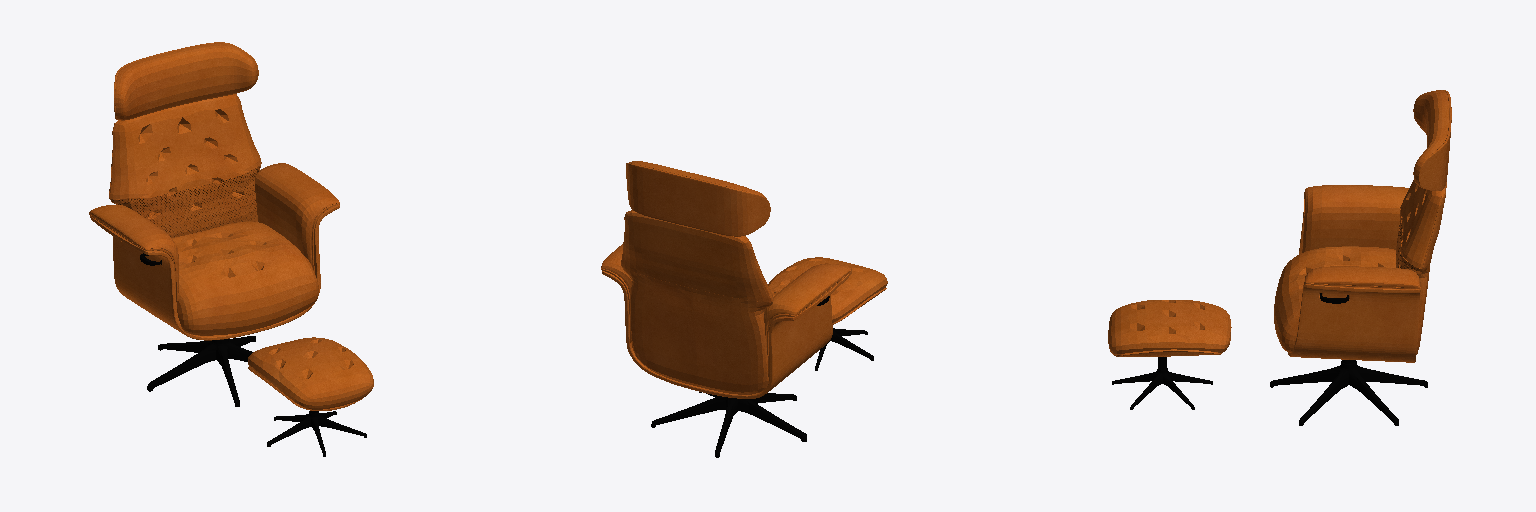
3 views of the same model, side by side, from view 1: azimuth 30°, elevation 25°; view 2: azimuth 150°, elevation 25°; view 3: azimuth 270°, elevation 25° (orthographic).
Visible parts, largest first — view 1: Back_Cube.003, Seat_Cube.002, Cube_Cube.004, Arms_Cube, Cube.002_Cube.006, Arms_lower_part_Cube.001, Cylinder.004_Cylinder.008, Cylinder.001_Cylinder.002; view 2: Back_Cube.003, Cube_Cube.004, Arms_lower_part_Cube.001, Arms_Cube, Cube.002_Cube.006, Cylinder.004_Cylinder.008, Cylinder.001_Cylinder.002; view 3: Arms_lower_part_Cube.001, Arms_Cube, Cube.002_Cube.006, Seat_Cube.002, Back_Cube.003, Cube_Cube.004, Cylinder.004_Cylinder.008, Cylinder.001_Cylinder.002, Plane.002.
Part boxes in pixels (x1,y1,x2,y2): Back_Cube.003: (109,94,261,237); Seat_Cube.002: (172,221,318,335); Cube_Cube.004: (114,42,258,120); Arms_Cube: (89,163,339,301); Cube.002_Cube.006: (248,337,373,409); Arms_lower_part_Cube.001: (90,204,339,340); Cylinder.004_Cylinder.008: (147,336,255,406); Cylinder.001_Cylinder.002: (267,411,366,456); Back_Cube.003: (621,210,773,394); Cube_Cube.004: (626,161,770,236); Arms_lower_part_Cube.001: (602,270,851,398); Arms_Cube: (601,244,851,376); Cube.002_Cube.006: (768,257,887,322); Cylinder.004_Cylinder.008: (651,392,806,457); Cylinder.001_Cylinder.002: (815,328,873,370); Arms_lower_part_Cube.001: (1288,192,1420,362); Arms_Cube: (1302,185,1420,288); Cube.002_Cube.006: (1108,300,1231,355); Seat_Cube.002: (1274,246,1395,352); Back_Cube.003: (1396,180,1446,353); Cube_Cube.004: (1413,90,1451,190); Cylinder.004_Cylinder.008: (1270,360,1427,425); Cylinder.001_Cylinder.002: (1112,357,1212,409); Plane.002: (1114,349,1221,356).
Size of the model in its own units: 1.61 by 2.2 by 2.4.
Materials: 1 (1 with a texture image).